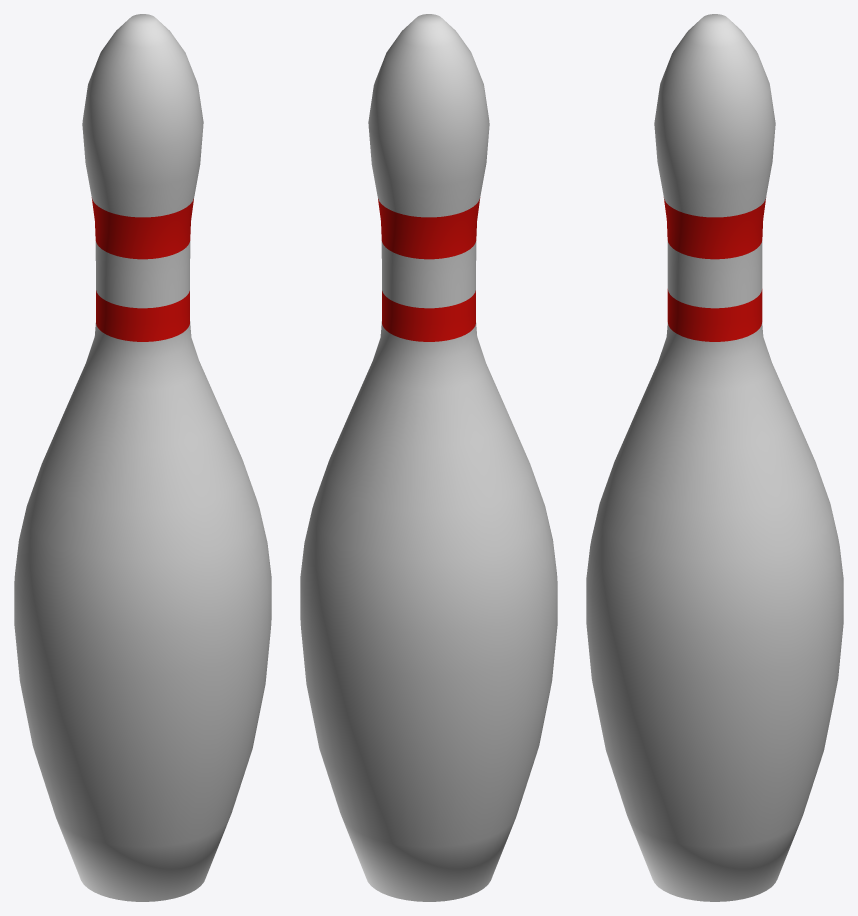
File: Pins.fbx
3 renders of one model, left to right at view 1: azimuth 30°, elevation 25°; view 2: azimuth 150°, elevation 25°; view 3: azimuth 270°, elevation 25°, orthographic.
Visible parts, largest first — view 1: Circle; view 2: Circle; view 3: Circle.
Boxes of the visible parts, x1,y1,x2,y2 form: Circle: [14, 14, 271, 901]; Circle: [300, 14, 557, 901]; Circle: [586, 14, 843, 901].
Size of the model in its own units: 20.35 by 74.58 by 20.35.
